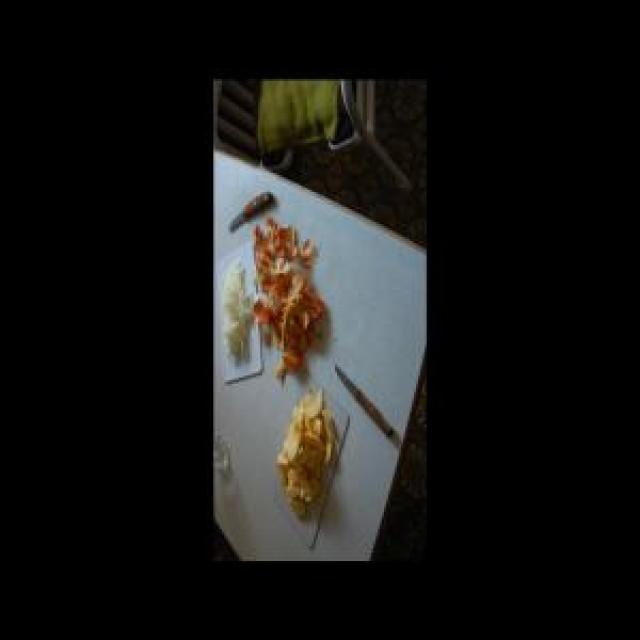knife: (226, 181, 286, 242)
